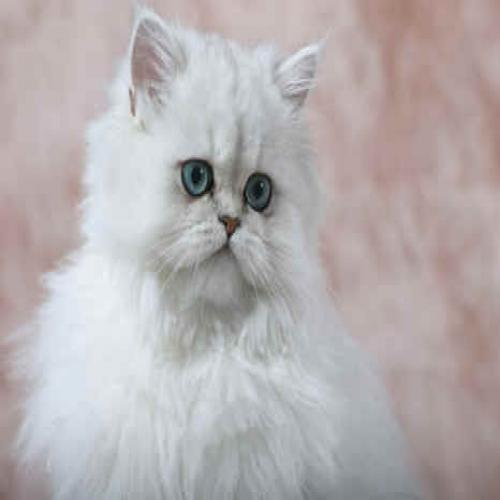persian: (107, 8, 335, 345)
